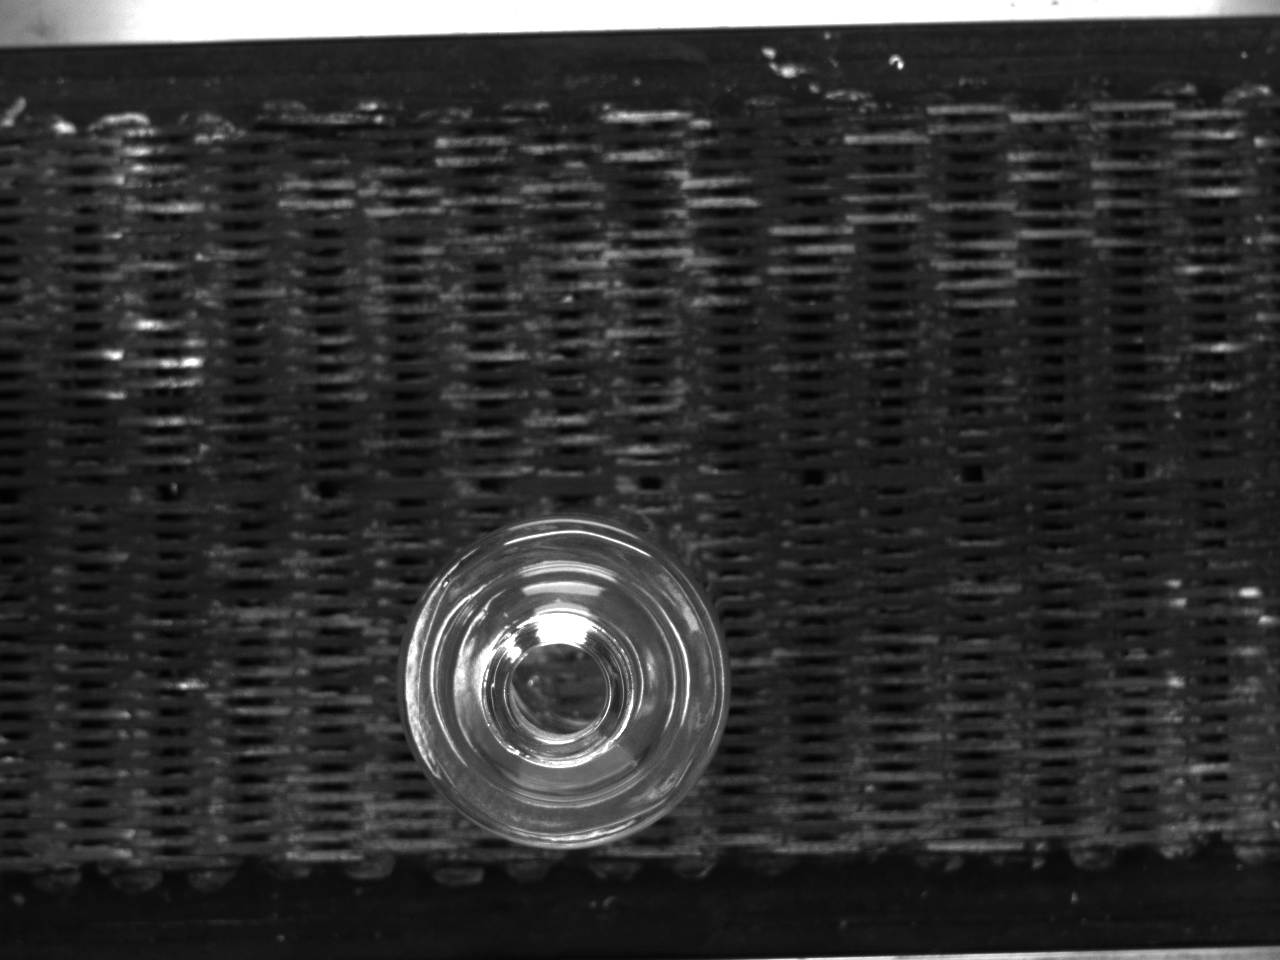bottleneck: (481, 608, 637, 768)
